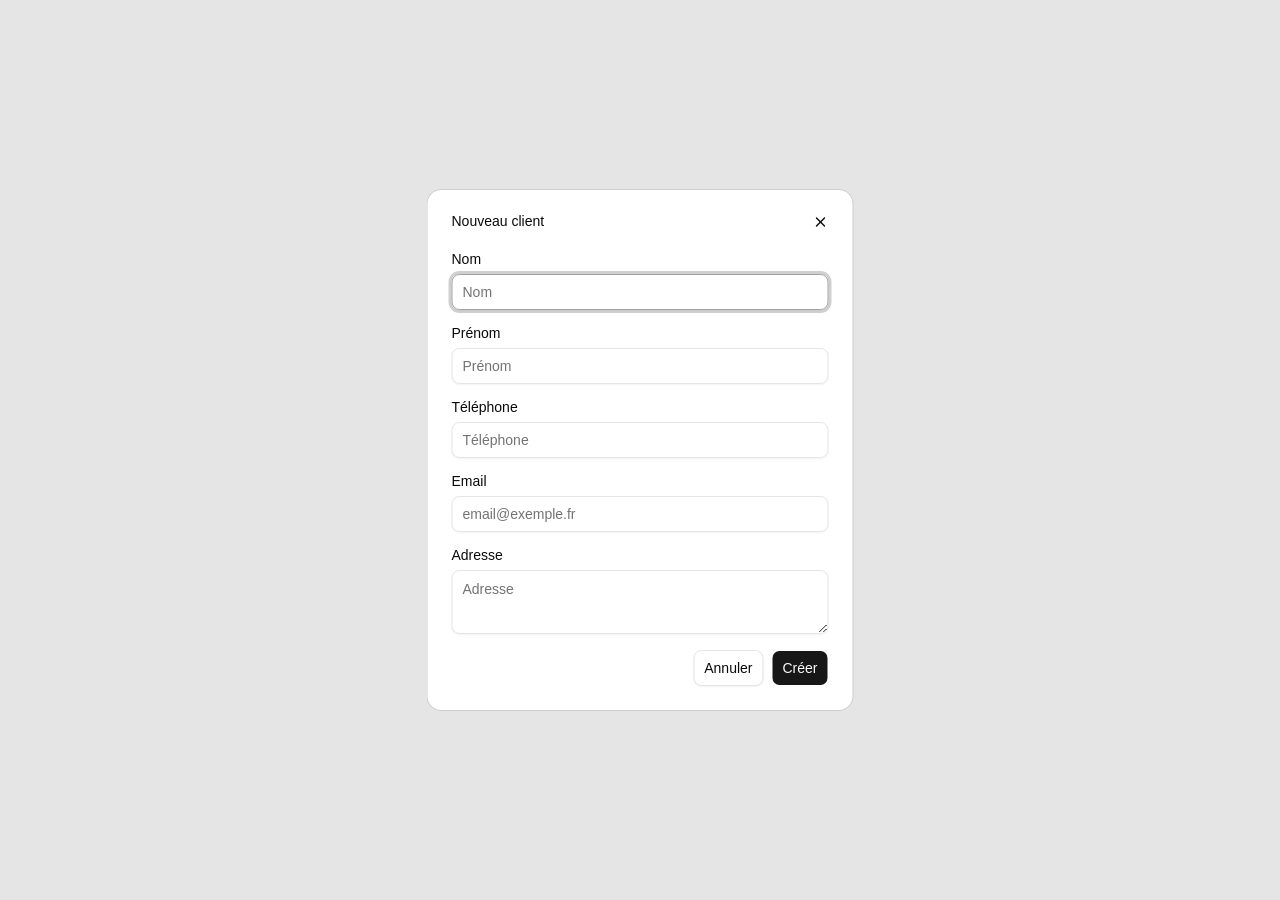
CreateClientDialog › validation — email format si renseigne
Type "Dupont" into the field labelled "Nom" at [640, 292], box x1=452 y1=274 x2=828 y2=310
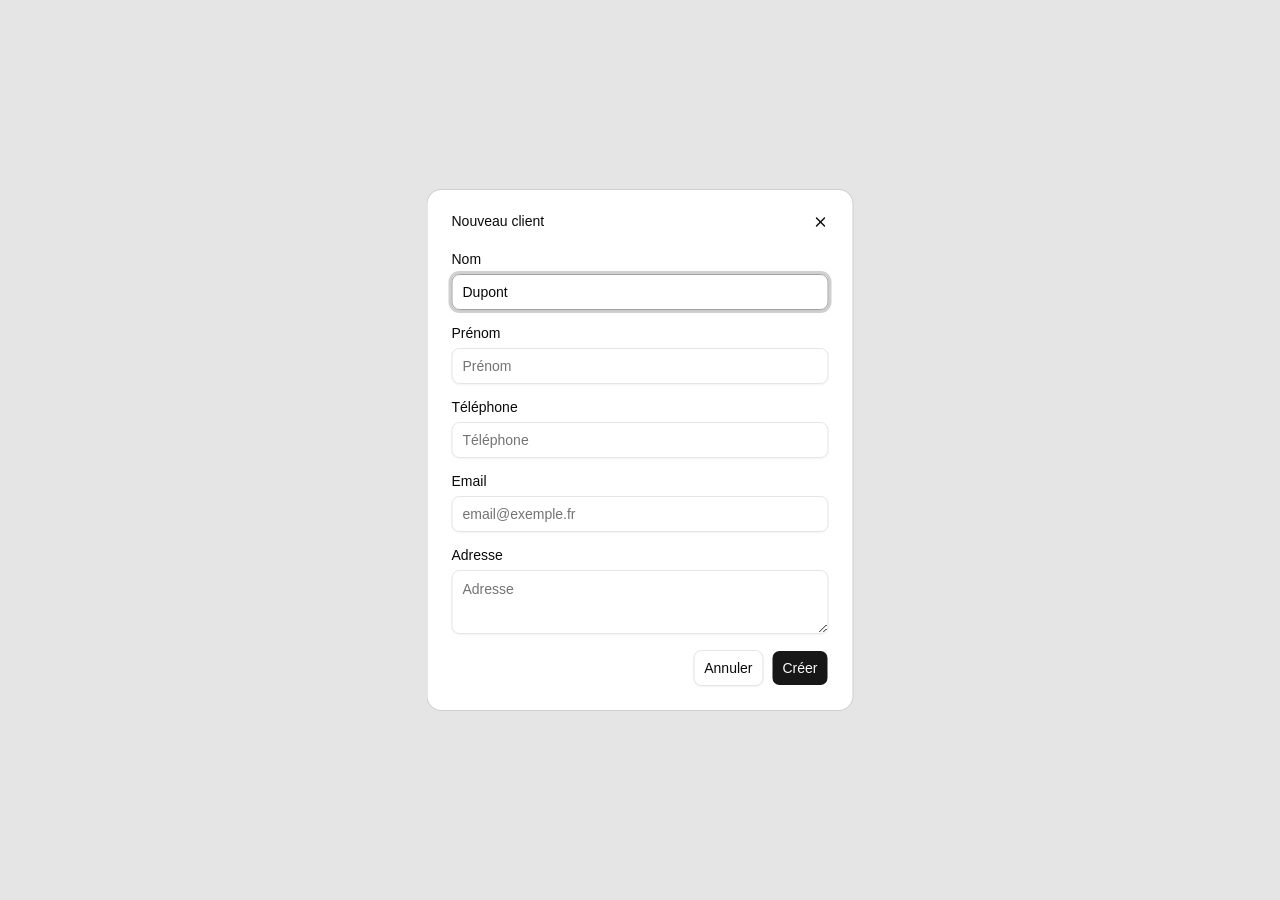
Type "Jean" into the field labelled "Prénom" at [640, 366], box x1=452 y1=348 x2=828 y2=384
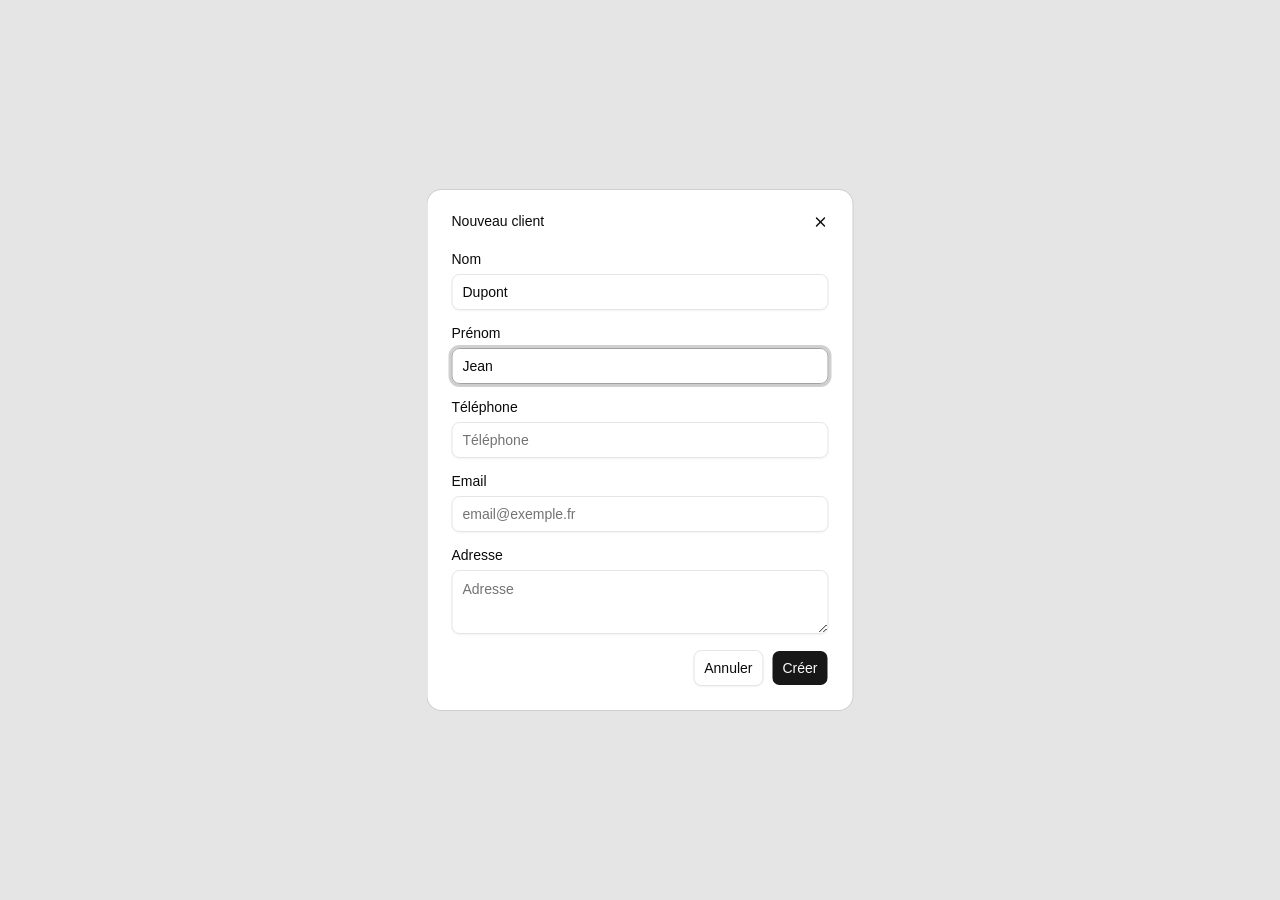
Type "invalid-email" into the field labelled "Email" at [640, 514], box x1=452 y1=496 x2=828 y2=532
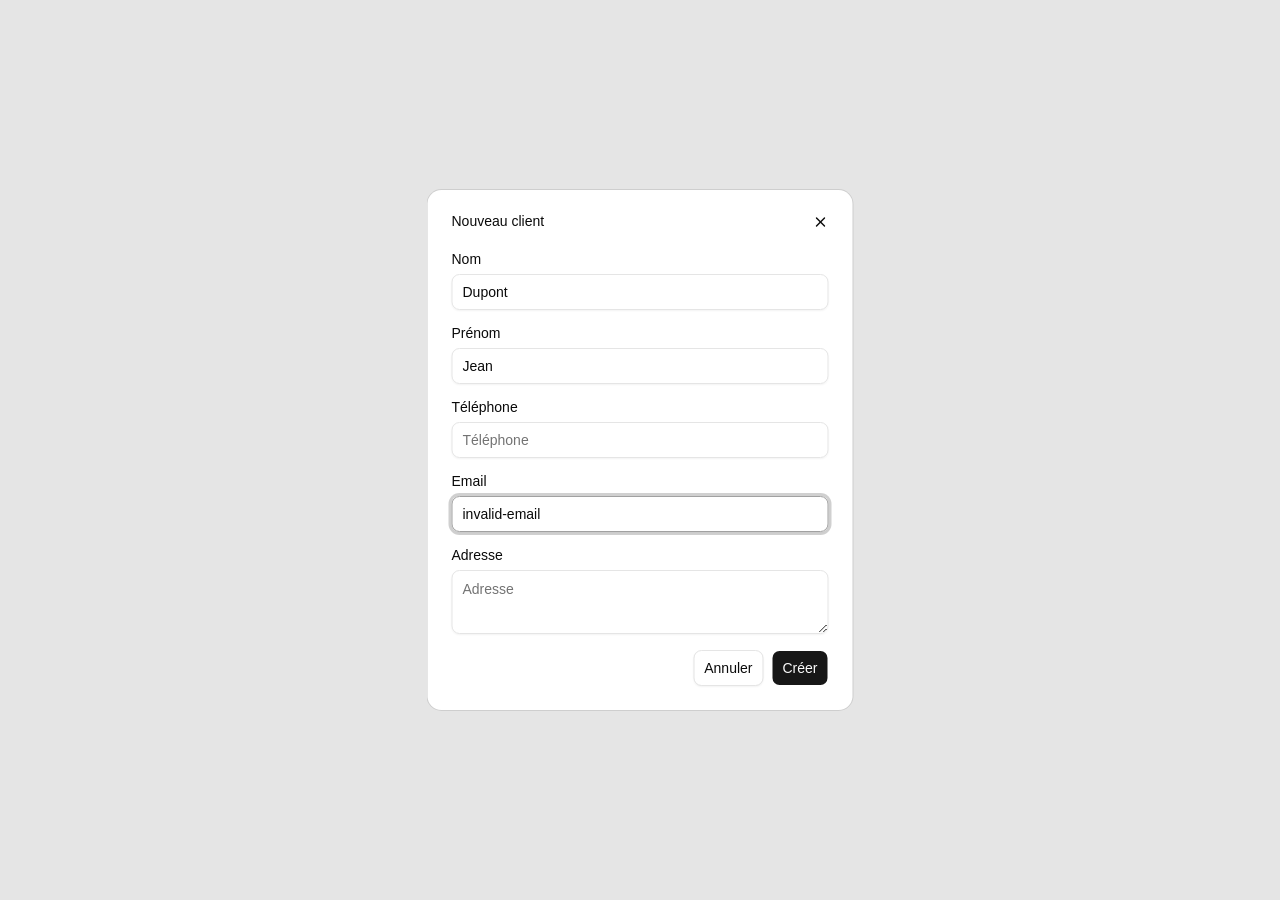
Click the button "Créer" at [800, 668], box x1=772 y1=650 x2=828 y2=686
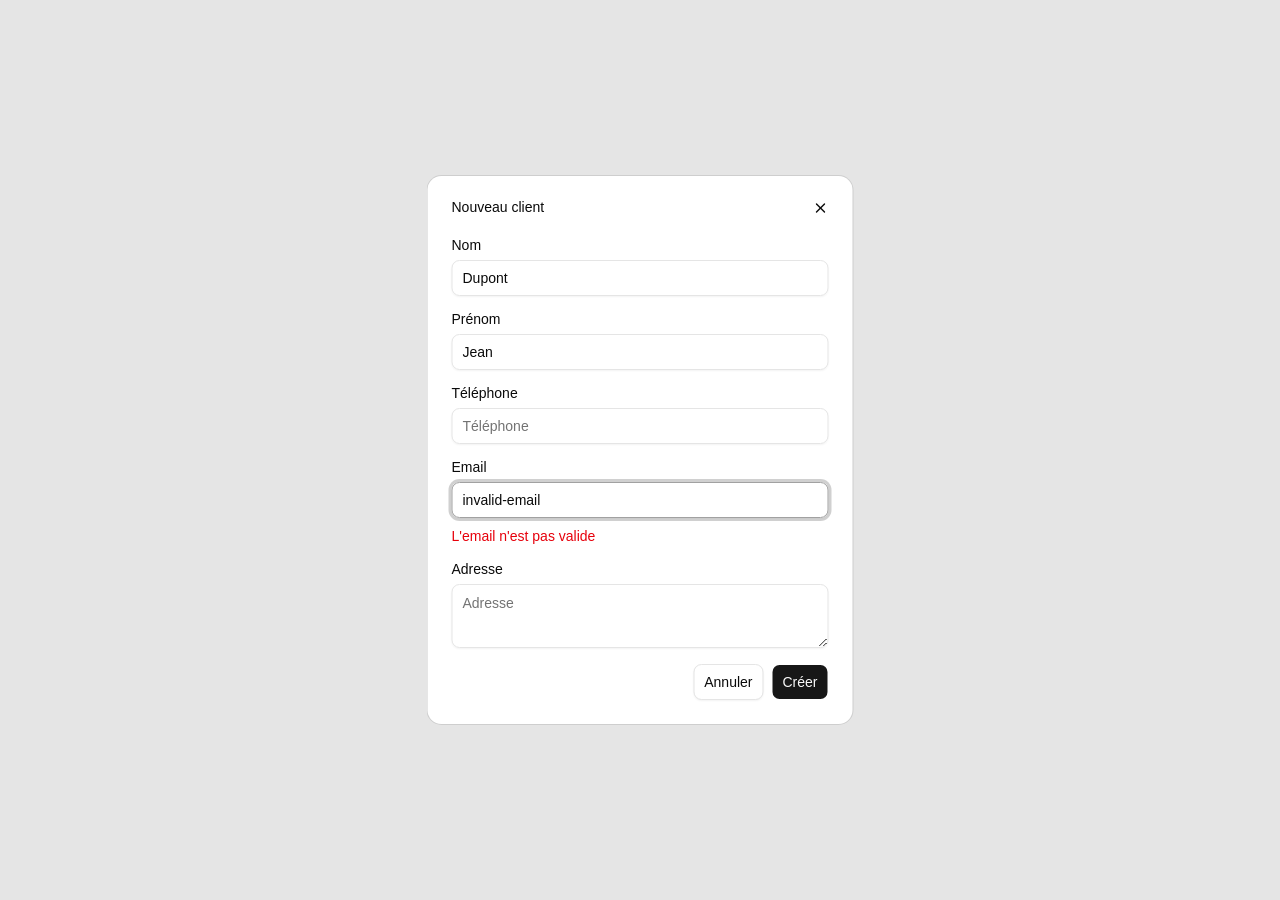
Now the text "L'email n'est pas valide" is shown, box x1=452 y1=528 x2=595 y2=544
